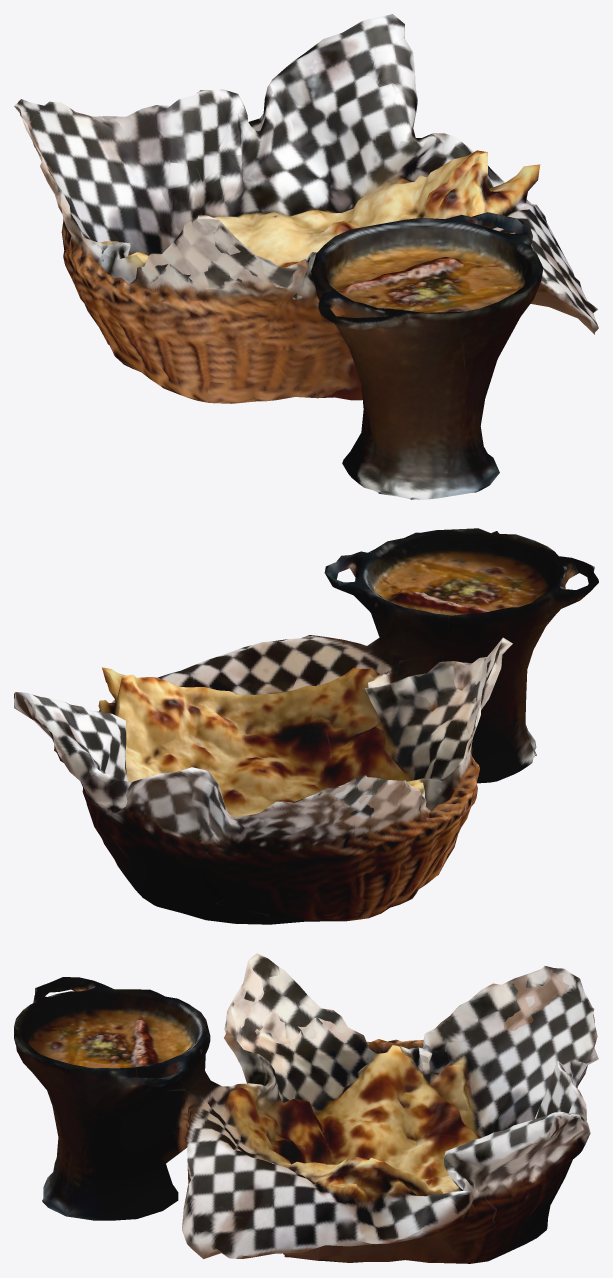
File: dal.glb
3 renders of one model, top to bottom at view 1: azimuth 30°, elevation 25°; view 2: azimuth 150°, elevation 25°; view 3: azimuth 270°, elevation 25°, orthographic. The views are drawn at different scales.
Visible parts, largest first — view 1: Object_2; view 2: Object_2; view 3: Object_2.
Boxes of the visible parts, x1,y1,x2,y2 form: Object_2: (14, 14, 598, 499); Object_2: (14, 528, 598, 924); Object_2: (14, 953, 598, 1263).
Size of the model in its own units: 241 by 115 by 331.
1 material, 1 textured.
